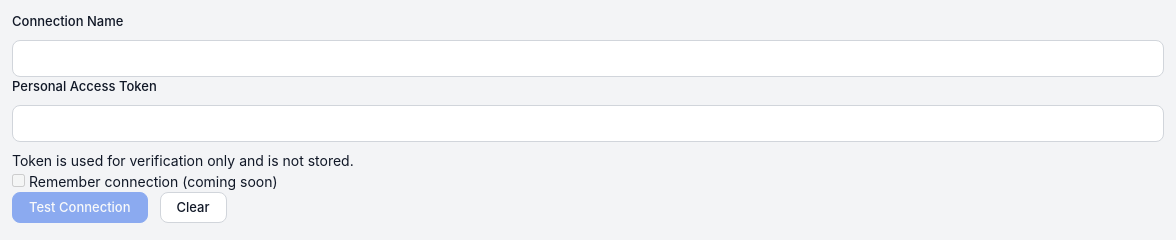
Test: ConnectionForm › test connection button is enabled when both fields are valid
Type "Test Connection" into the field labelled "Connection Name" at (588, 58), box left=12, top=40, right=1164, bottom=77
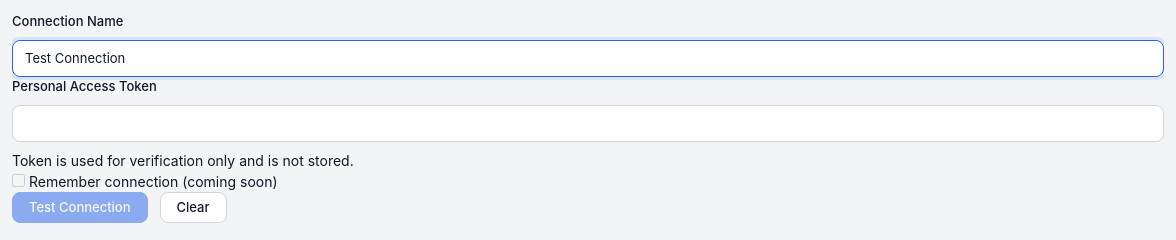
Type "example_valid_token_abcdefgh12345" into the password field labelled "Personal Access Token" at (588, 123), box left=12, top=104, right=1164, bottom=142
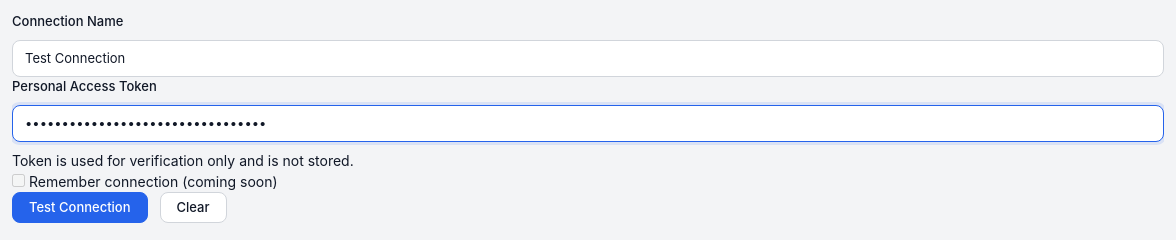
Expected: the button "Test Connection" is enabled, left=12, top=192, right=148, bottom=223
